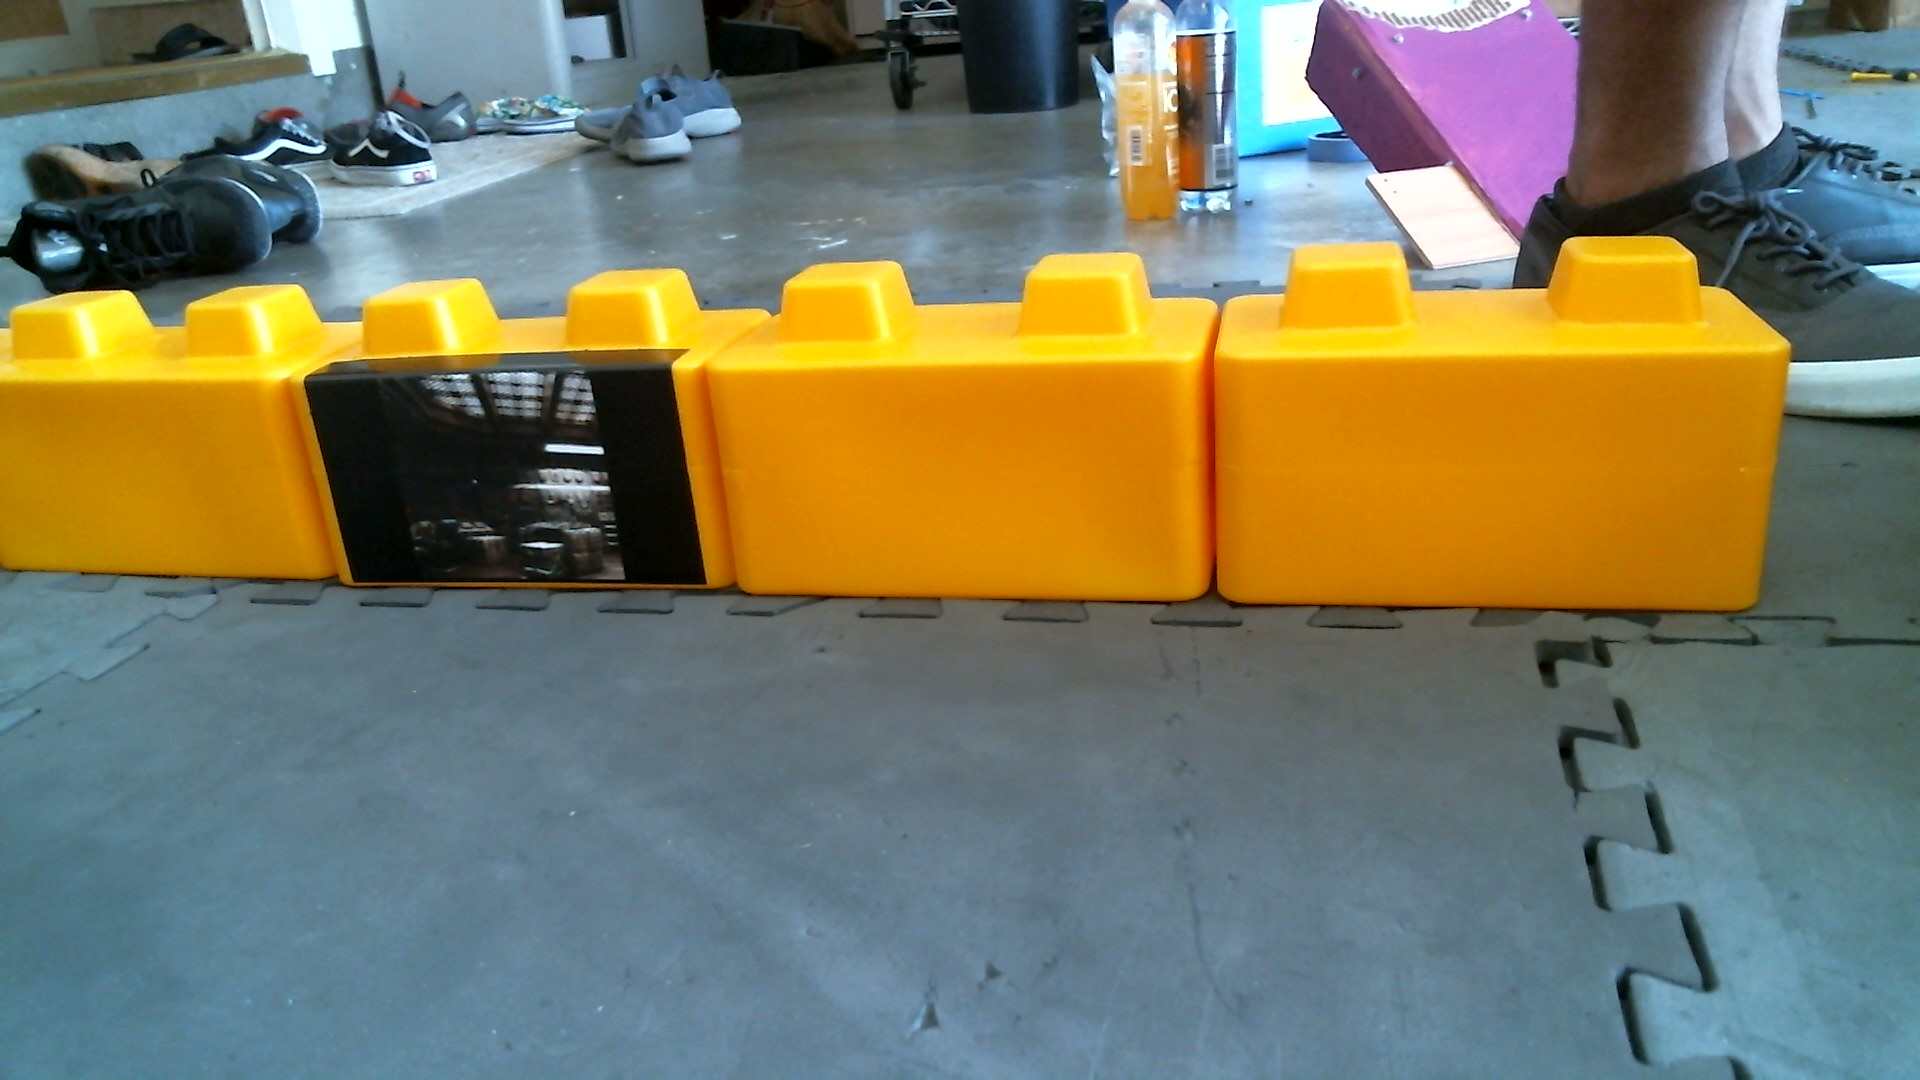skystone: (314, 278, 728, 609)
stone: (1212, 232, 1776, 607), (715, 251, 1216, 622), (5, 277, 344, 611)
